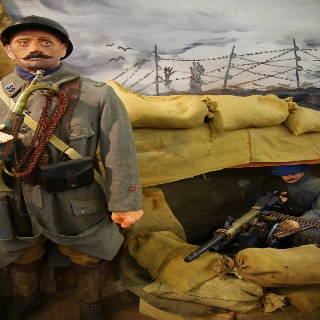rifle: (181, 187, 283, 269)
